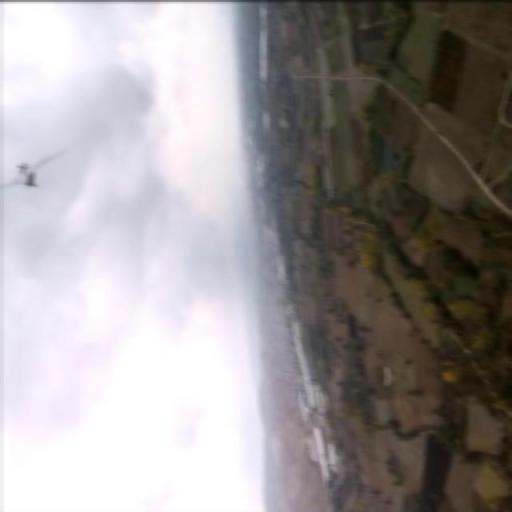uav: (0, 148, 71, 190)
